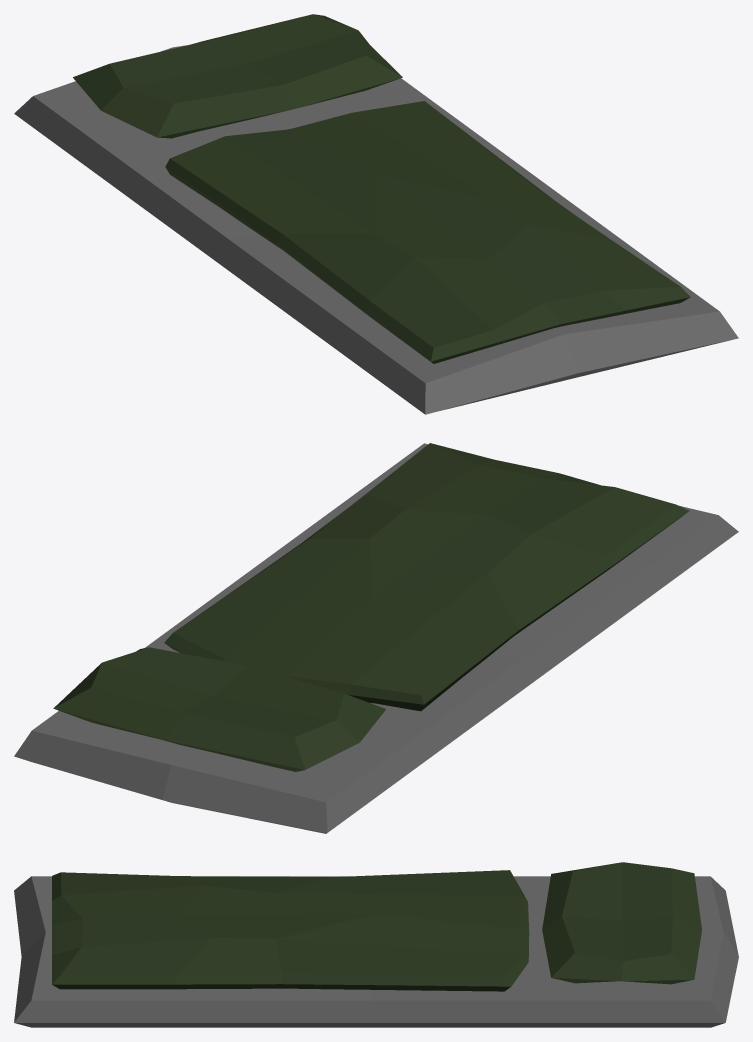
The model's file is Bed_1.fbx.
The picture shows the model from 3 angles, top to bottom: view 1: azimuth 30°, elevation 25°; view 2: azimuth 150°, elevation 25°; view 3: azimuth 270°, elevation 25°; orthographic projection. The views are drawn at different scales.
Parts seen in each view (by area): view 1: Bed_mesh; view 2: Bed_mesh; view 3: Bed_mesh.
Part boxes in pixels (left/top/right/bottom): Bed_mesh: left=14, top=14, right=738, bottom=414; Bed_mesh: left=14, top=443, right=738, bottom=833; Bed_mesh: left=14, top=862, right=738, bottom=1027.
Size of the model in its own units: 107 by 21.95 by 248.
